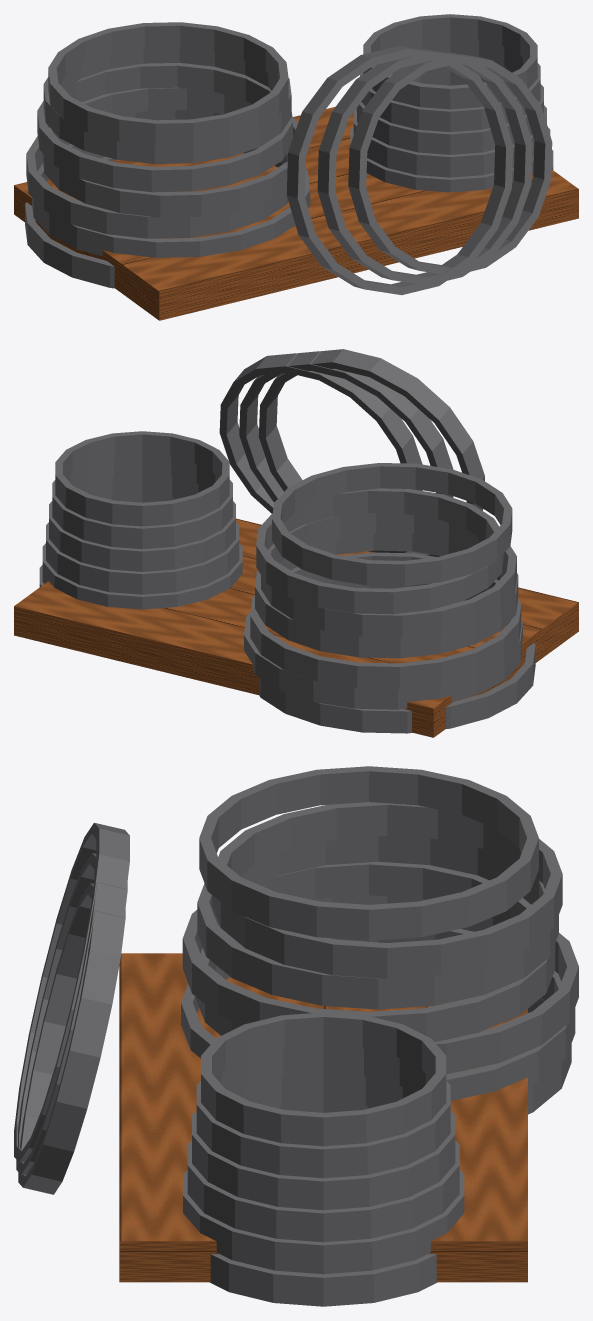
File: distillery-and-bonded-warehouse-hoop-stack-f2d9b2de.glb
The picture shows the model from 3 angles, top to bottom: view 1: azimuth 30°, elevation 25°; view 2: azimuth 150°, elevation 25°; view 3: azimuth 270°, elevation 25°; orthographic projection. The views are drawn at different scales.
Visible parts, largest first — view 1: hoop-stack-iron, hoop-stack-timber; view 2: hoop-stack-iron, hoop-stack-timber; view 3: hoop-stack-iron, hoop-stack-timber.
Part boxes in pixels (x1=…): hoop-stack-iron: x1=25, y1=14, x2=553, y2=295; hoop-stack-timber: x1=14, y1=106, x2=578, y2=320; hoop-stack-iron: x1=39, y1=349, x2=535, y2=733; hoop-stack-timber: x1=14, y1=518, x2=578, y2=737; hoop-stack-iron: x1=14, y1=766, x2=578, y2=1306; hoop-stack-timber: x1=119, y1=953, x2=527, y2=1282.
Size of the model in its own units: 1.72 by 0.7519 by 1.24.
Materials: 2 (1 with a texture image).
